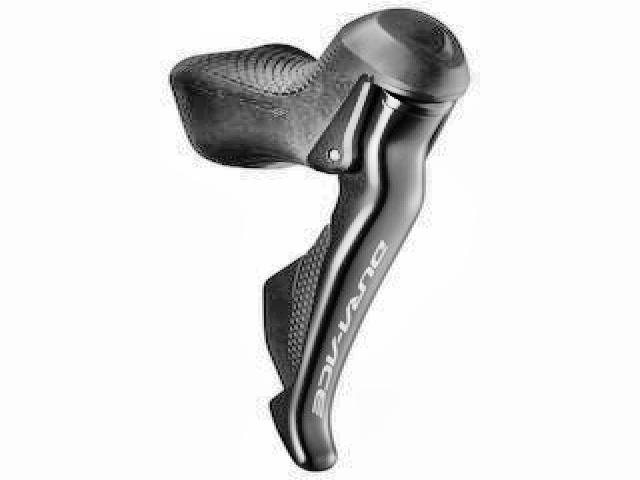sti_shifter: (172, 9, 474, 471)
